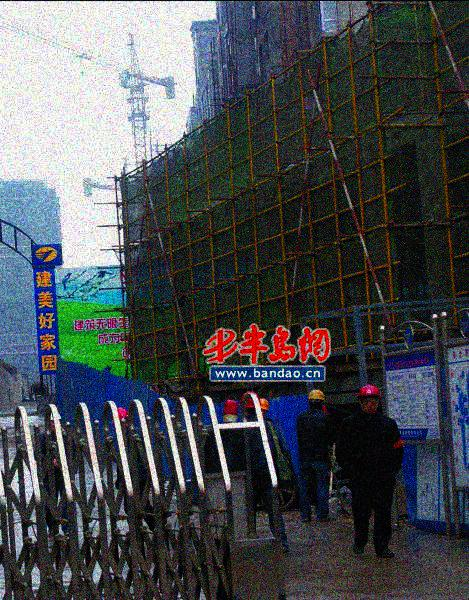helmet: (355, 383, 382, 416), (305, 388, 327, 413), (239, 390, 260, 416), (110, 404, 131, 429), (45, 408, 62, 433), (258, 398, 271, 417)
